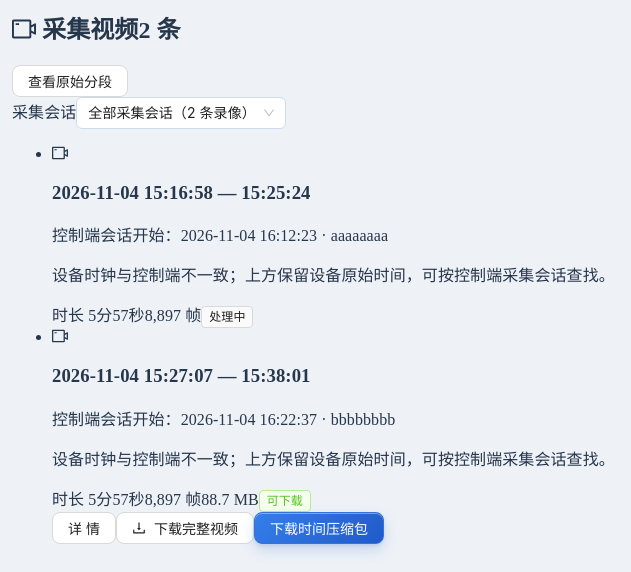
Complete archive recordings › finds device-clock recordings through their control-session start without changing native times or closure
Check: the heading "2026-11-04 15:16:58 — 15:25:24" is shown, box x1=52 y1=182 x2=310 y2=202
Check: the text "控制端会话开始：2026-11-04 16:12:23 · aaaaaaaa" is shown, box x1=52 y1=227 x2=388 y2=244
Press the mouse on the dropdown labelled "采集会话" at [172, 113], box x1=88 y1=98 x2=256 y2=128
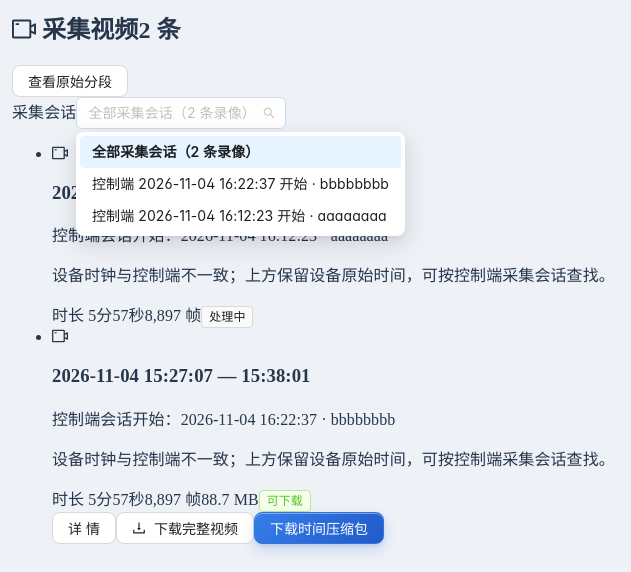
Click the option "控制端 2026-11-04 16:12:23 开始 · aaaaaaaa" at [239, 216], box x1=92 y1=207 x2=387 y2=224
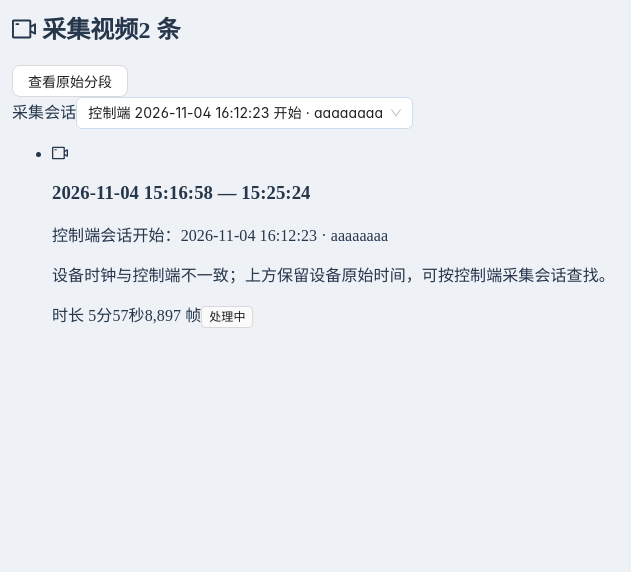
Check: the text "处理中" is shown, box x1=201 y1=306 x2=254 y2=328
Check: the button "下载完整视频" is gone
